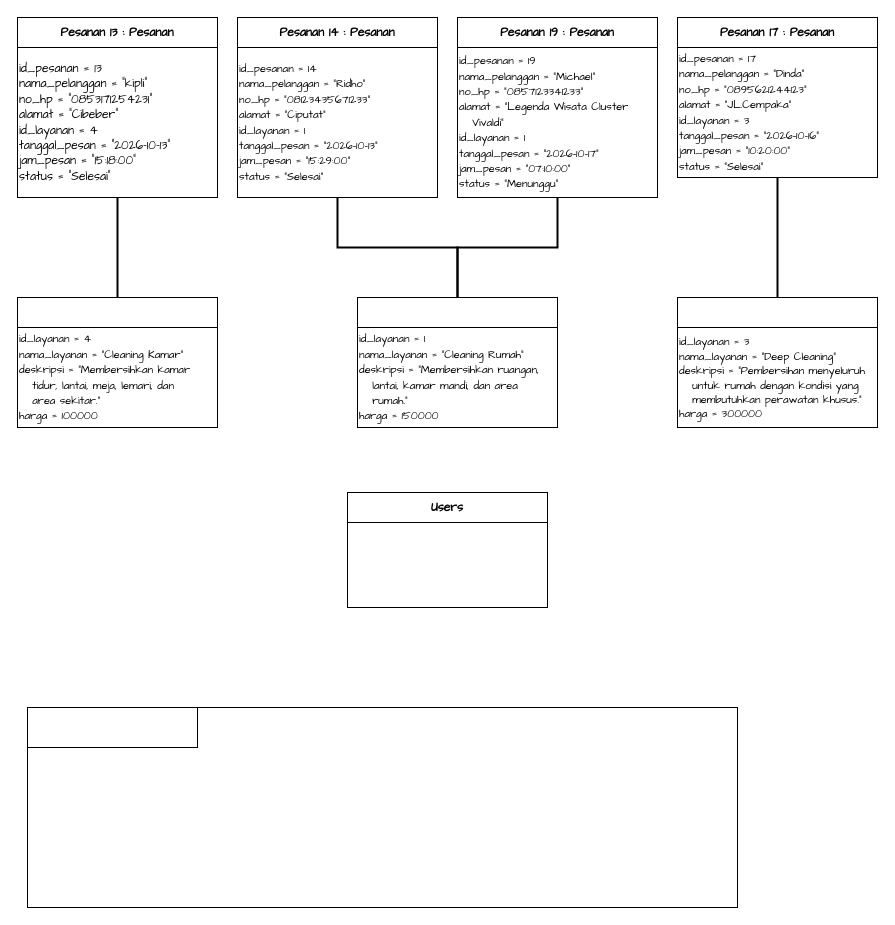
The diagram is 895 pixels wide and 925 high, and some of its shapes have lost their labels. The box of each missing label's shape, as (x1, y1, x2, y2) in pixels:
id_user = 1 username = "admin" password = "********" nama = "Administrator": (346, 506, 548, 608)
KETERANGAN: (26, 706, 198, 748)
Layanan 1 : Layanan: (356, 296, 558, 328)
Layanan 3 : Layanan: (676, 296, 878, 328)
Layanan 4 : Layanan: (16, 296, 218, 328)
